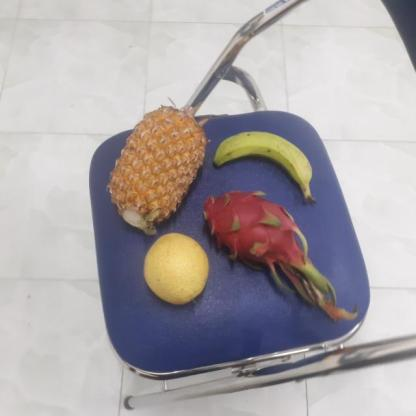banana: (210, 132, 313, 200)
pear: (140, 235, 212, 306)
pineapple: (106, 108, 205, 232)
pitaya: (197, 191, 307, 274)
